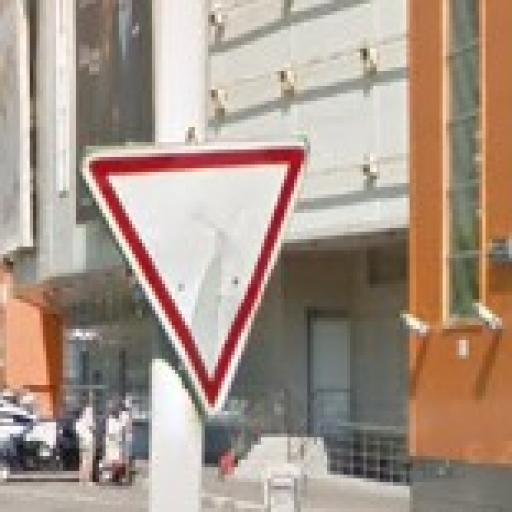traffic_sign: (84, 143, 308, 420)
